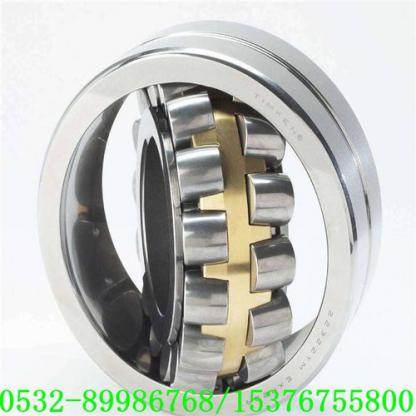FOD: (32, 13, 395, 415)
